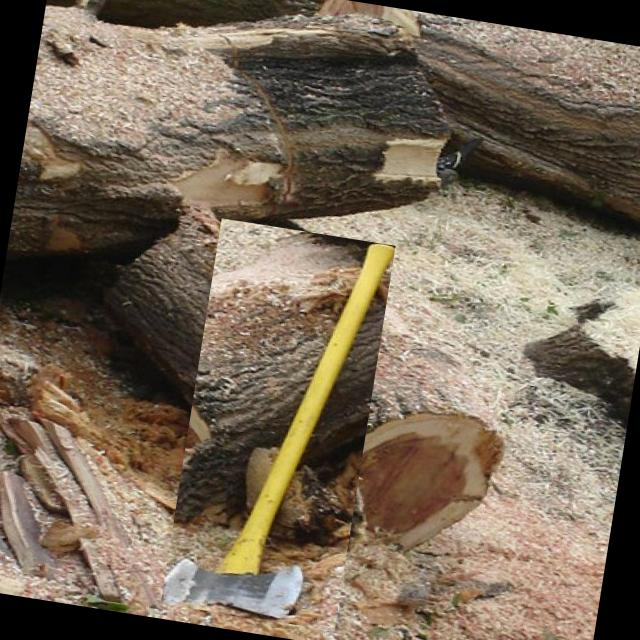Axe: (165, 244, 395, 620)
